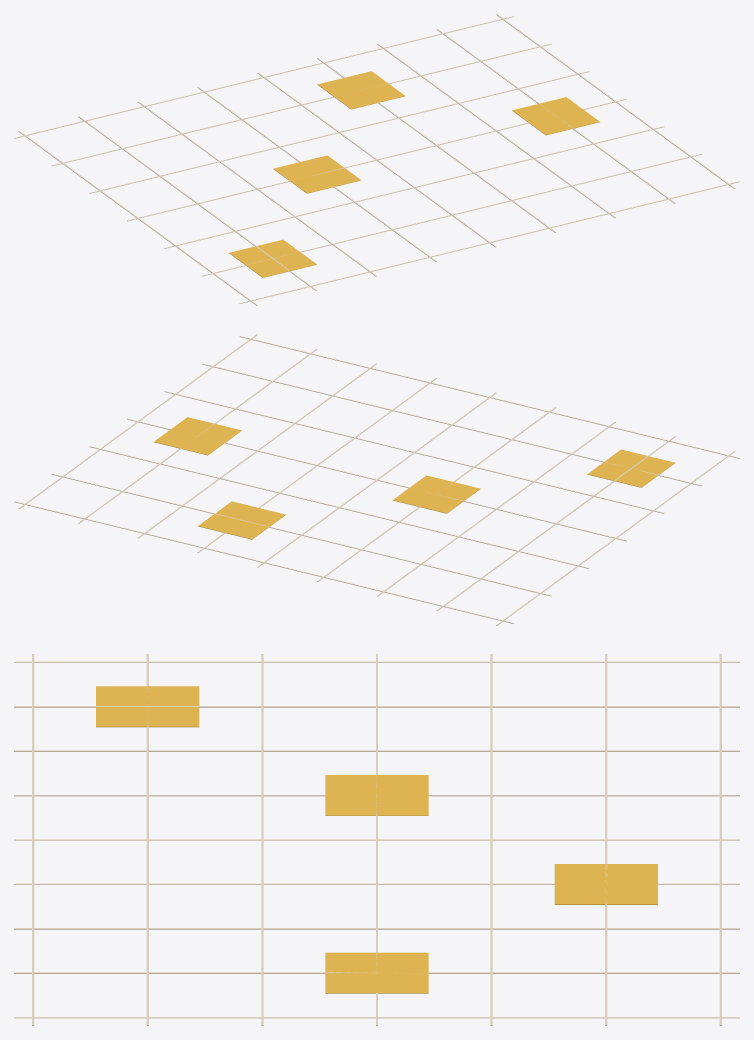
3 renders of one model, top to bottom at view 1: azimuth 30°, elevation 25°; view 2: azimuth 150°, elevation 25°; view 3: azimuth 270°, elevation 25°, orthographic. The views are drawn at different scales.
Visible parts, largest first — view 1: Geometric color tile.001, Geometric color tile.002, Geometric color tile.003, Geometric color tile, Grout Y.004, Grout Y.006, Grout Y.002, Grout Y, Grout Y.001, Grout Y.005, Grout Y.003, Grout X (+6 smaller); view 2: Geometric color tile.001, Geometric color tile.002, Geometric color tile.003, Geometric color tile, Grout Y.004, Grout Y.006, Grout Y, Grout Y.002, Grout Y.005, Grout Y.001, Grout Y.003, Grout X.002 (+6 smaller); view 3: Geometric color tile.003, Geometric color tile.001, Geometric color tile.002, Geometric color tile, Grout X, Grout X.002, Grout X.004, Grout X.006, Grout X.008, Grout X.001, Grout X.007, Grout X.005 (+8 smaller).
Boxes of the visible parts, x1,y1,x2,y2 form: Geometric color tile.001: [273, 155, 361, 193]; Geometric color tile.002: [317, 71, 405, 109]; Geometric color tile.003: [512, 97, 599, 135]; Geometric color tile: [229, 239, 316, 277]; Grout Y.004: [89, 71, 589, 193]; Grout Y.006: [14, 16, 514, 138]; Grout Y.002: [164, 126, 664, 248]; Grout Y: [239, 181, 739, 303]; Grout Y.001: [202, 153, 702, 276]; Grout Y.005: [51, 43, 551, 166]; Grout Y.003: [127, 98, 626, 221]; Grout X: [18, 131, 257, 305]; Geometric color tile.001: [392, 475, 480, 513]; Geometric color tile.002: [198, 501, 285, 539]; Geometric color tile.003: [154, 417, 241, 455]; Geometric color tile: [587, 449, 674, 487]; Grout Y.004: [89, 446, 589, 568]; Grout Y.006: [14, 501, 514, 623]; Grout Y: [239, 336, 739, 458]; Grout Y.002: [164, 391, 664, 513]; Grout Y.005: [51, 473, 551, 596]; Grout Y.001: [202, 363, 702, 486]; Grout Y.003: [127, 418, 626, 541]; Grout X.002: [377, 421, 615, 596]; Geometric color tile.003: [325, 952, 428, 993]; Geometric color tile.001: [325, 775, 428, 815]; Geometric color tile.002: [554, 864, 657, 904]; Geometric color tile: [96, 686, 199, 727]; Grout X: [14, 661, 739, 662]; Grout X.002: [14, 750, 739, 751]; Grout X.004: [14, 839, 739, 840]; Grout X.006: [14, 928, 739, 929]; Grout X.008: [14, 1017, 739, 1018]; Grout X.001: [14, 706, 739, 707]; Grout X.007: [14, 972, 739, 973]; Grout X.005: [14, 883, 739, 884].
Size of the model in its own units: 460 by 0.3001 by 380.
